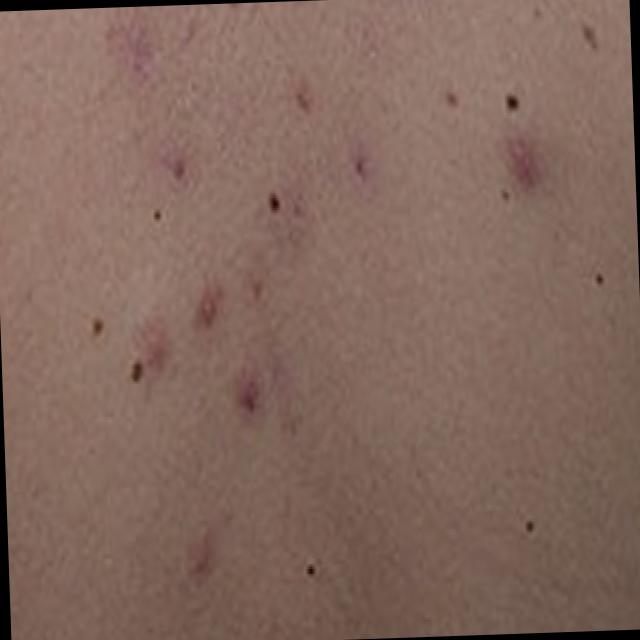blackhead: (444, 83, 462, 114), (296, 88, 314, 113), (582, 24, 598, 52), (266, 188, 282, 215), (129, 360, 143, 384), (504, 93, 520, 112), (90, 316, 104, 337), (524, 518, 536, 534), (305, 562, 316, 578), (500, 188, 510, 204), (152, 207, 162, 221), (594, 272, 604, 286), (532, 6, 542, 20), (226, 3, 240, 8)
